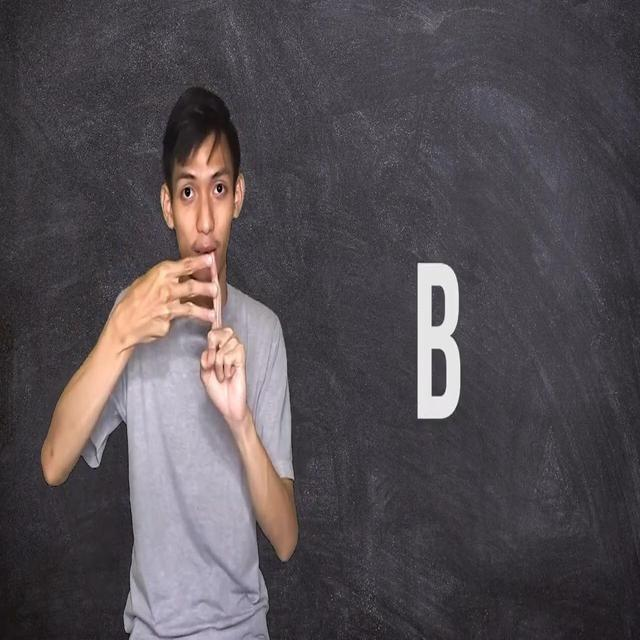B: (150, 240, 247, 396)
